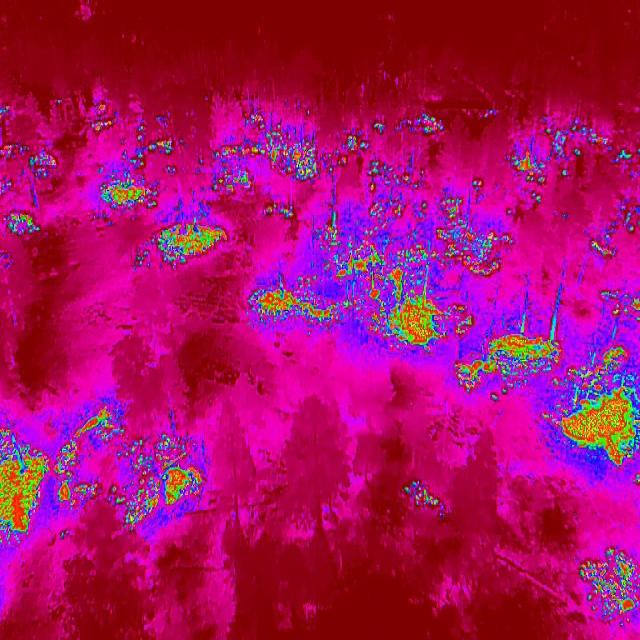fire: (205, 101, 338, 217), (56, 398, 160, 530), (544, 344, 639, 485), (448, 304, 564, 402), (318, 194, 436, 290), (436, 174, 516, 284), (369, 277, 474, 358), (0, 102, 60, 242), (243, 277, 354, 331), (544, 116, 640, 178), (576, 544, 640, 632), (0, 430, 49, 540), (92, 155, 158, 226), (156, 440, 207, 520), (128, 111, 192, 174), (152, 220, 228, 268), (508, 149, 550, 205), (364, 158, 427, 194), (401, 478, 447, 520), (372, 112, 448, 136), (599, 284, 640, 324), (338, 126, 373, 163), (587, 229, 622, 263), (91, 100, 117, 136), (478, 106, 504, 122)
